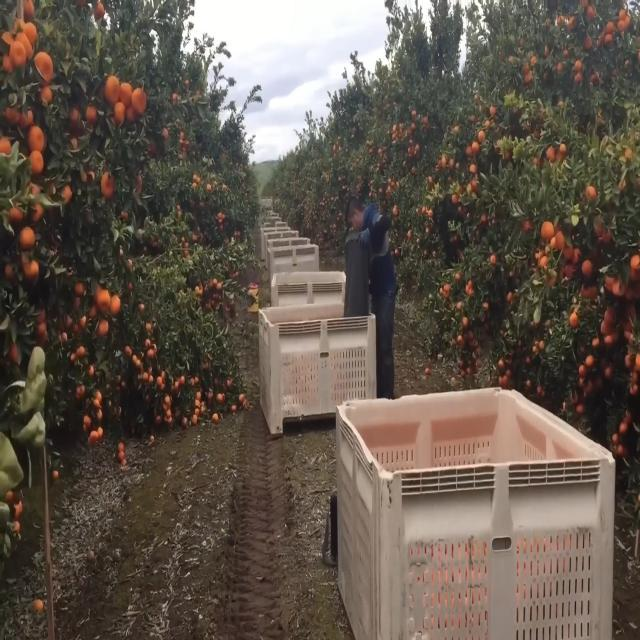Jeruk Sudah Matang: (32, 50, 53, 86), (26, 125, 44, 153), (131, 86, 147, 115), (104, 75, 120, 104), (100, 170, 116, 198), (120, 80, 134, 106), (540, 219, 554, 243), (114, 101, 125, 125), (584, 184, 596, 204), (582, 258, 592, 278), (559, 144, 567, 156)
